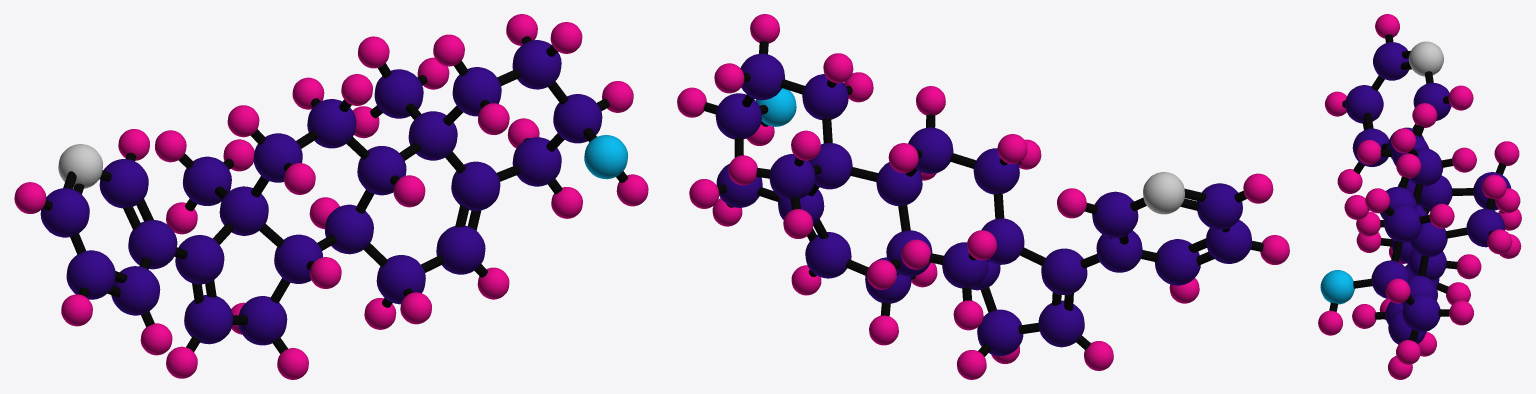
The model's file is abiraterone.glb.
3 views of the same model, side by side, from view 1: azimuth 30°, elevation 25°; view 2: azimuth 150°, elevation 25°; view 3: azimuth 270°, elevation 25° (orthographic). The views are drawn at different scales.
Visible parts, largest first — view 1: Shape_Sphere.014, Shape_Sphere.011, Shape_Sphere.024, Shape_Sphere.013, Shape_Sphere.017, Shape_Sphere.025, Shape_Sphere.005, Shape_Sphere.023, Shape_Sphere.021, Shape_Sphere.003, Shape_Sphere.010, Shape_Sphere.018 (+44 smaller); view 2: Shape_Sphere.013, Shape_Sphere.023, Shape_Sphere.014, Shape_Sphere.010, Shape_Sphere.017, Shape_Sphere.020, Shape_Sphere.022, Shape_Sphere.025, Shape_Sphere.016, Shape_Sphere.019, Shape_Sphere.012, Shape_Sphere.007 (+38 smaller); view 3: Shape_Sphere.018, Shape_Sphere.019, Shape_Sphere.024, Shape_Sphere.025, Shape_Sphere.016, Shape_Sphere.001, Shape_Sphere, Shape_Sphere.006, Shape_Sphere.020, Shape_Sphere.007, Shape_Sphere.023, Shape_Sphere.005 (+38 smaller).
Boxes of the visible parts, <box> form: Shape_Sphere.014: <box>436,226,485,274</box>; Shape_Sphere.011: <box>451,161,500,210</box>; Shape_Sphere.024: <box>66,250,115,299</box>; Shape_Sphere.013: <box>175,235,224,284</box>; Shape_Sphere.017: <box>184,295,233,344</box>; Shape_Sphere.025: <box>40,188,89,237</box>; Shape_Sphere.005: <box>219,186,268,235</box>; Shape_Sphere.023: <box>99,159,148,208</box>; Shape_Sphere.021: <box>128,220,177,269</box>; Shape_Sphere.003: <box>325,204,373,254</box>; Shape_Sphere.010: <box>238,296,287,345</box>; Shape_Sphere.018: <box>512,137,561,186</box>; Shape_Sphere.013: <box>1041,248,1087,294</box>; Shape_Sphere.023: <box>1092,191,1138,238</box>; Shape_Sphere.014: <box>805,232,851,278</box>; Shape_Sphere.010: <box>977,309,1023,355</box>; Shape_Sphere.017: <box>1038,300,1084,347</box>; Shape_Sphere.020: <box>715,93,761,139</box>; Shape_Sphere.022: <box>1154,239,1200,285</box>; Shape_Sphere.025: <box>1197,183,1242,229</box>; Shape_Sphere.016: <box>769,154,815,200</box>; Shape_Sphere.019: <box>740,53,784,100</box>; Shape_Sphere.012: <box>802,74,848,119</box>; Shape_Sphere.007: <box>908,127,953,173</box>; Shape_Sphere.018: <box>1402,293,1440,332</box>; Shape_Sphere.019: <box>1384,204,1422,242</box>; Shape_Sphere.024: <box>1345,85,1383,123</box>; Shape_Sphere.025: <box>1373,42,1408,80</box>; Shape_Sphere.016: <box>1466,208,1504,247</box>; Shape_Sphere.001: <box>1408,41,1443,76</box>; Shape_Sphere: <box>1320,270,1354,304</box>; Shape_Sphere.006: <box>1409,222,1447,257</box>; Shape_Sphere.020: <box>1371,260,1409,298</box>; Shape_Sphere.007: <box>1409,148,1443,186</box>; Shape_Sphere.023: <box>1413,82,1451,120</box>; Shape_Sphere.005: <box>1414,175,1452,211</box>.
Bounding box in the file's own units: 14.77 × 6.75 × 5.37.
